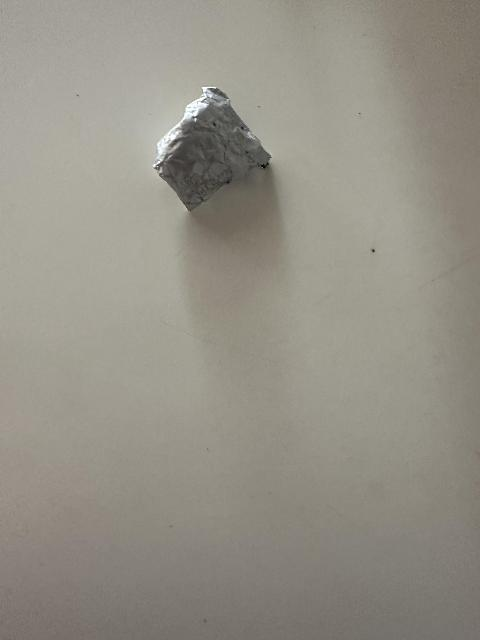Kagit: (144, 81, 286, 214)
